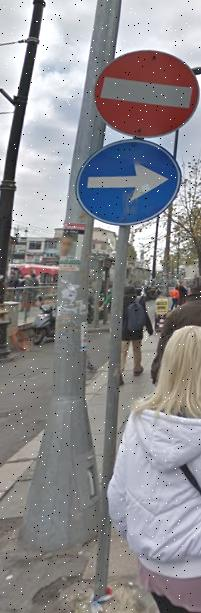turnright: (77, 135, 183, 224)
